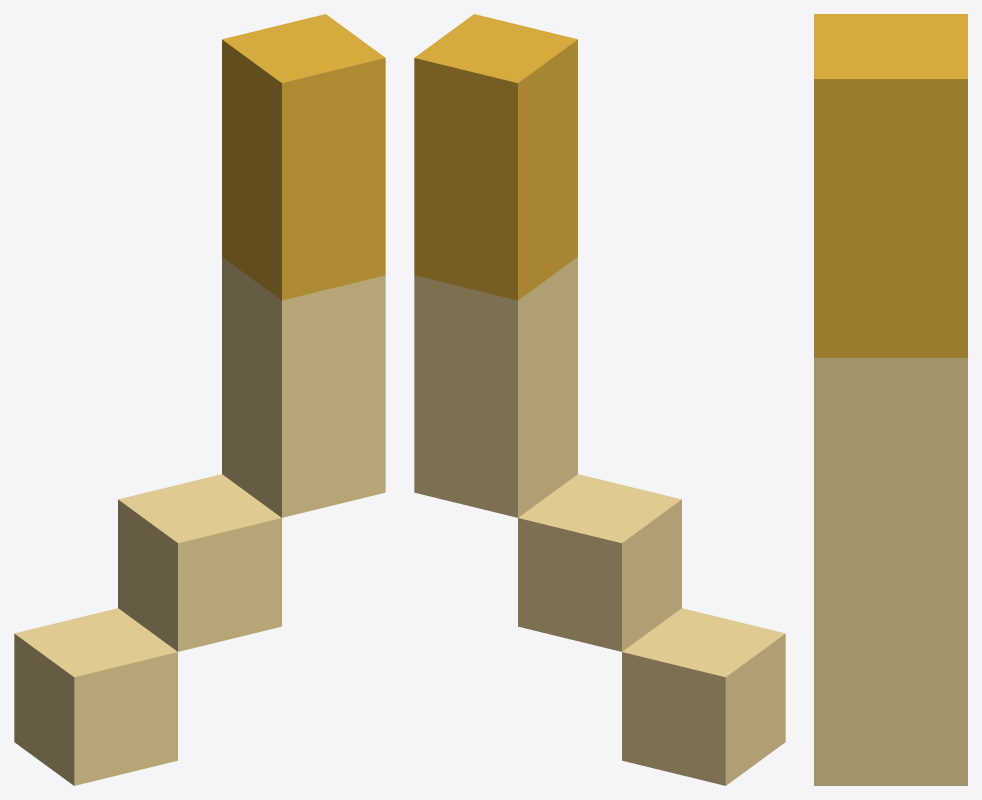
Rendered from human-25-right_hand_raised.obj.
3 views of the same model, side by side, from view 1: azimuth 30°, elevation 25°; view 2: azimuth 150°, elevation 25°; view 3: azimuth 270°, elevation 25° (orthographic). The views are drawn at different scales.
Visible parts, largest first — view 1: right_hand_raised; view 2: right_hand_raised; view 3: right_hand_raised.
Boxes of the visible parts, left/top/right/bottom form: right_hand_raised: left=14, top=14, right=385, bottom=785; right_hand_raised: left=414, top=14, right=785, bottom=785; right_hand_raised: left=814, top=14, right=967, bottom=785.
Bounding box in the file's own units: 0.3 × 0.6 × 0.1.
1 material, 1 textured.
